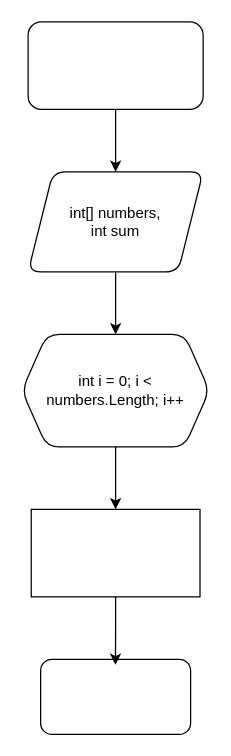
Some shapes in this 231 by 756 pixel diagram are drawn without their labels. The shapes that lost their labels are listed below. From the top down, each one's centre as x and y in pixels, then its label:
At point 115,65: "start".
At point 115,552: "sum+=numbers[i]".
